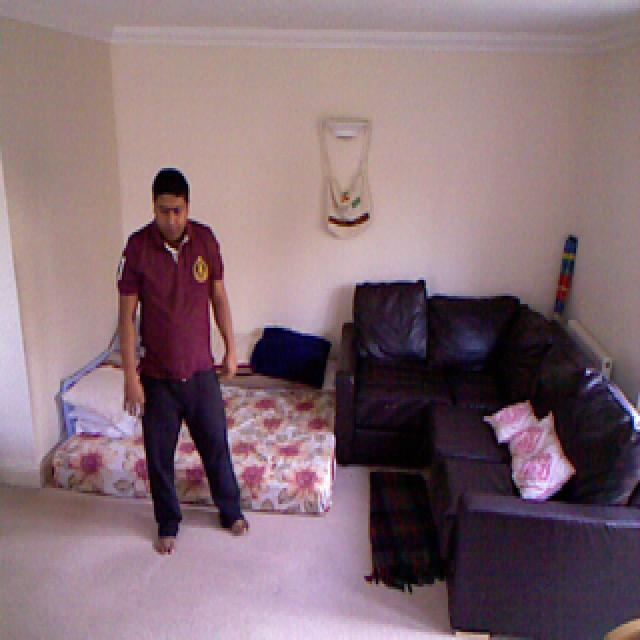NotFall: (88, 159, 276, 584)
